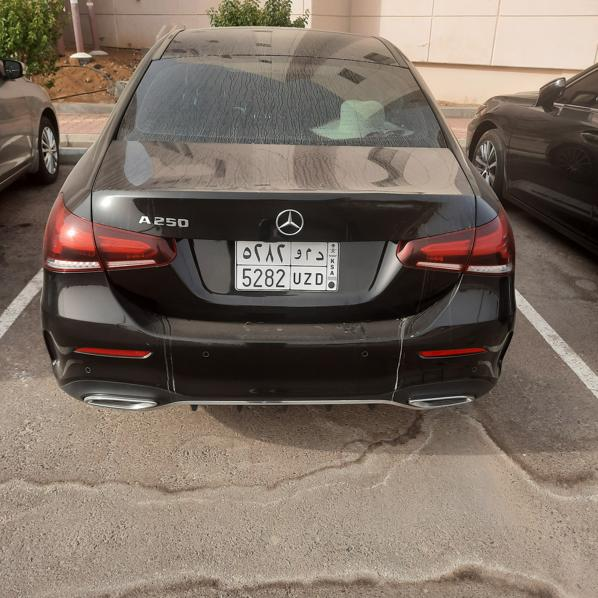numberplate: (236, 239, 339, 291)
